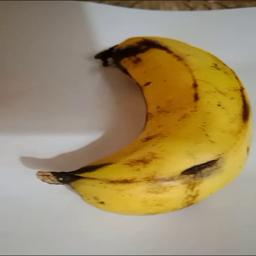Banana Semifresh: (36, 32, 256, 215)
